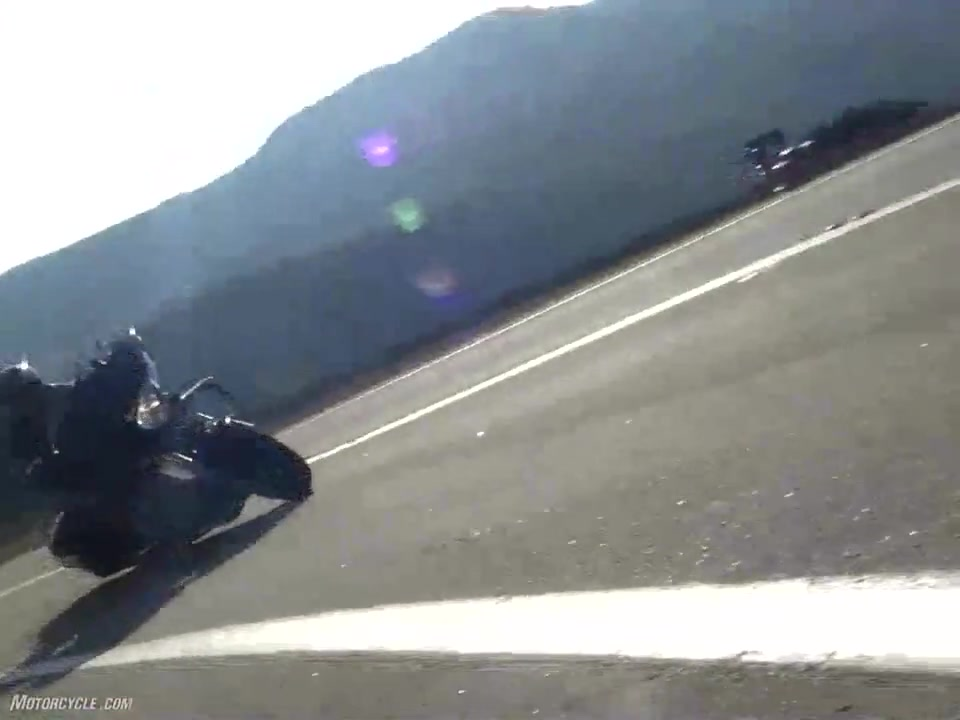motorbike: (51, 331, 313, 587)
